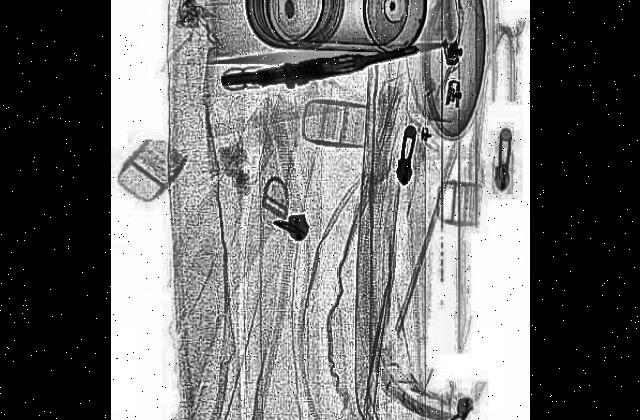Gun: (220, 38, 418, 95)
